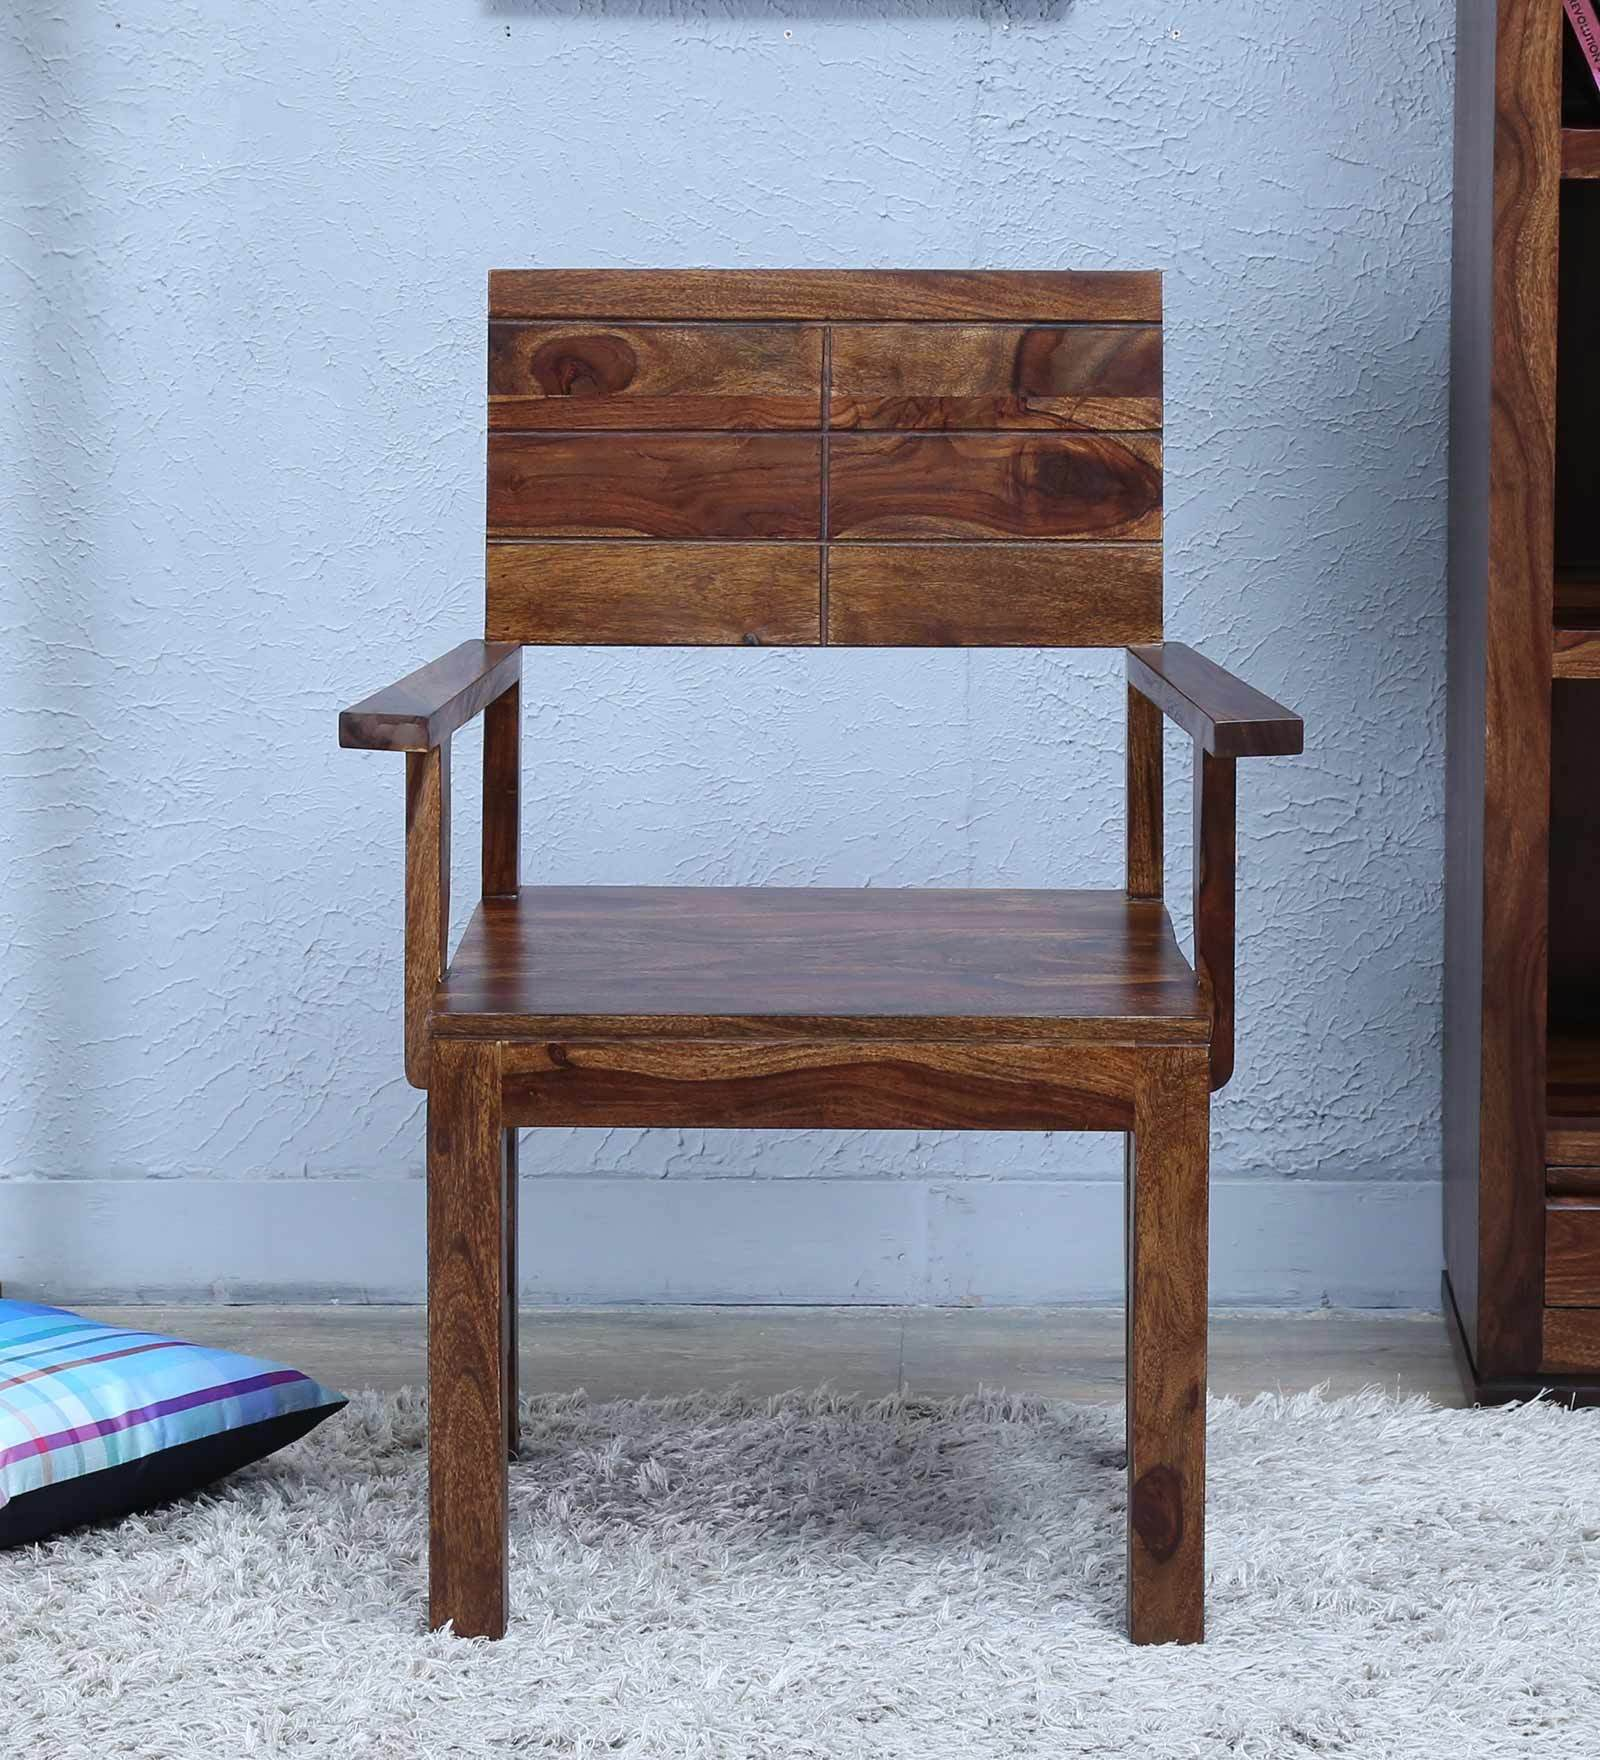Segur Arm Chair in Provincial Teak Finish by Woodsworth: (330, 215, 1369, 1665)
